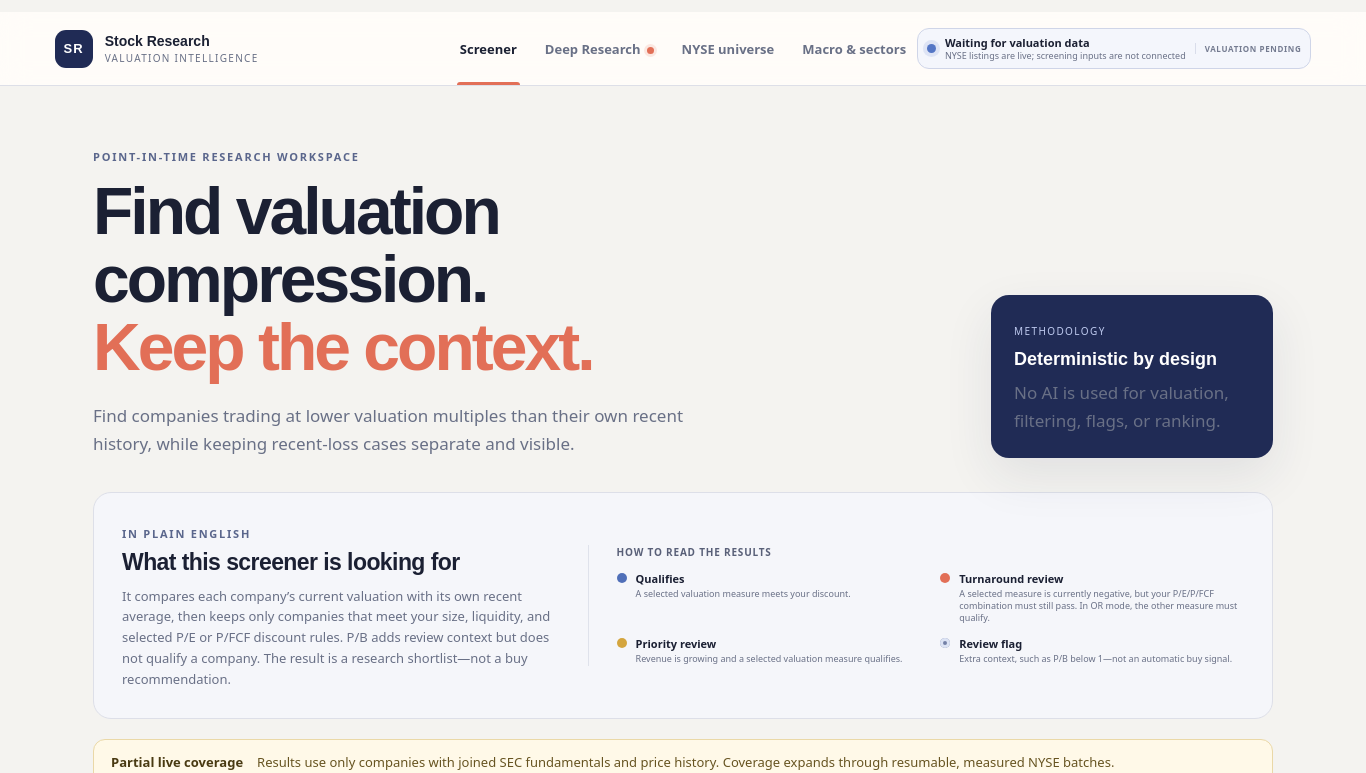
Test case: stock research dashboard › shows persisted deep-research retrieval progress in its own tab
Click the button "Deep Research" at (599, 48), box [542,12,656,85]
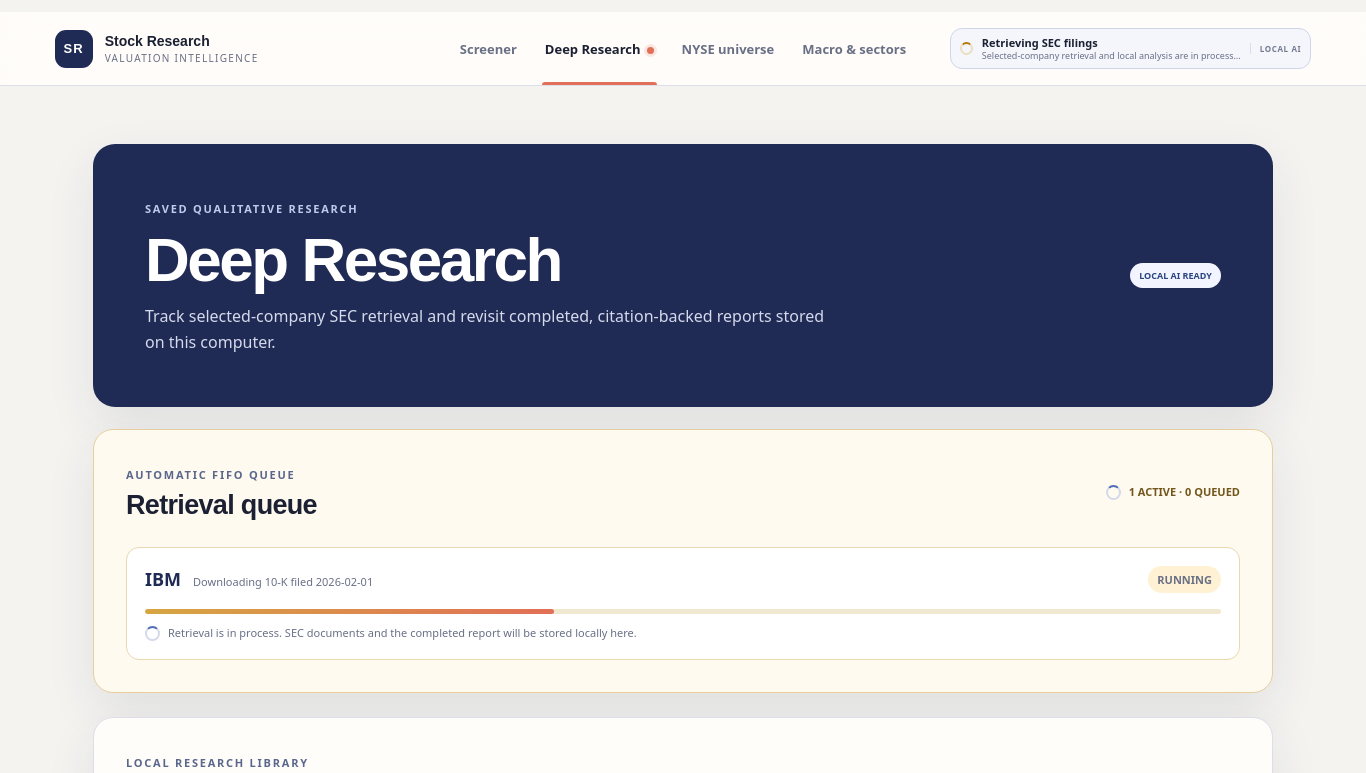
Check: the heading "Retrieval queue" is shown, box [126,489,317,522]
Check: the text "Retrieval is in process. SEC documents and the completed report will be stored locally here." is shown, box [168,625,637,640]
Check: the text "Retrieving SEC filings" is shown, box [982,35,1098,50]
